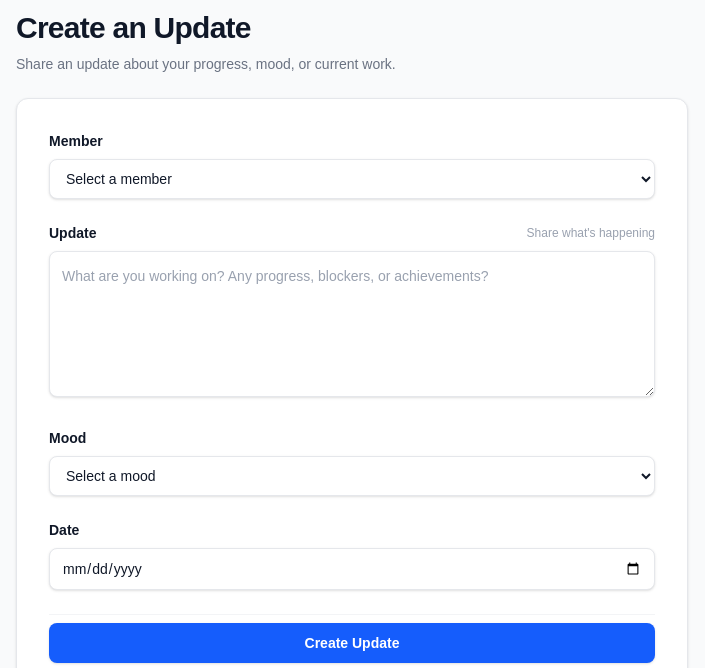
Scenario: CreateUpdate Page › shows an error when date is missing
The width and height of the screenshot is (705, 668).
Select "Alice (Developer)" in the dropdown labelled "Member" at point(352, 179), box x1=49 y1=159 x2=655 y2=199
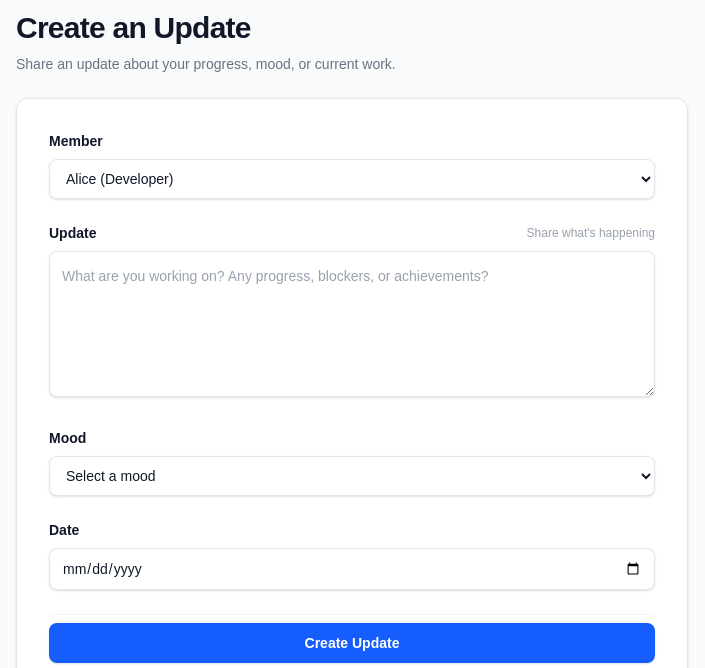
Replace the text in the text box labelled "Update" with "Finished feature A" at point(352, 324), box x1=49 y1=251 x2=655 y2=397
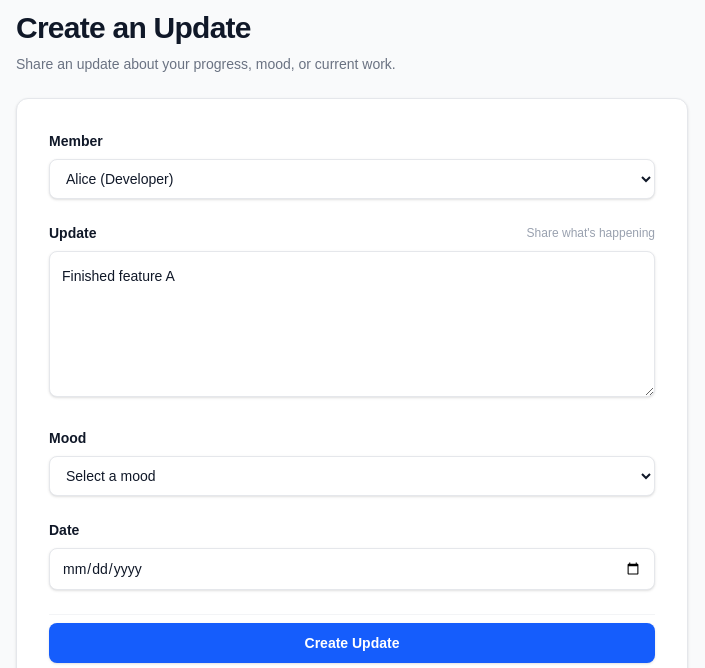
Select "Select a mood" in the dropdown labelled "Mood" at point(352, 476), box x1=49 y1=456 x2=655 y2=496
Click the button "Create Update" at point(352, 643), box x1=49 y1=623 x2=655 y2=663
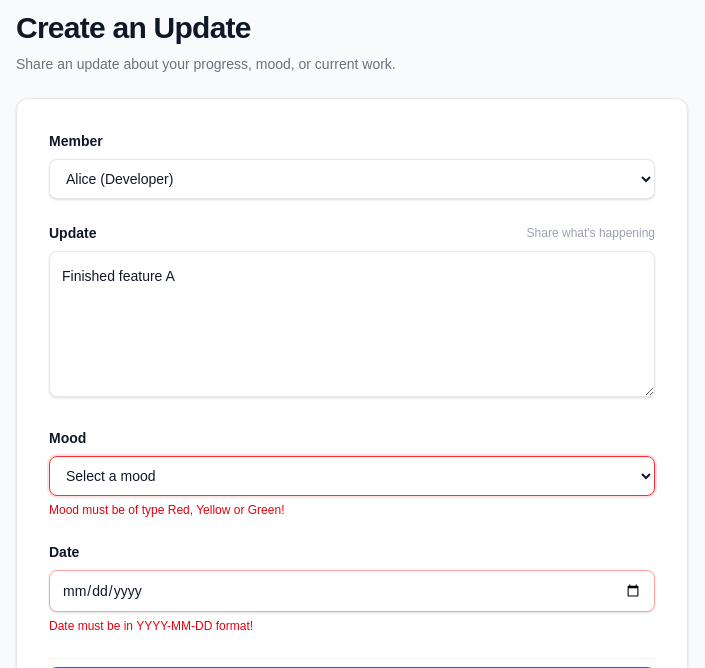
Expected: the text "Date must be in YYYY-MM-DD format!" is shown, x1=49 y1=619 x2=253 y2=633
